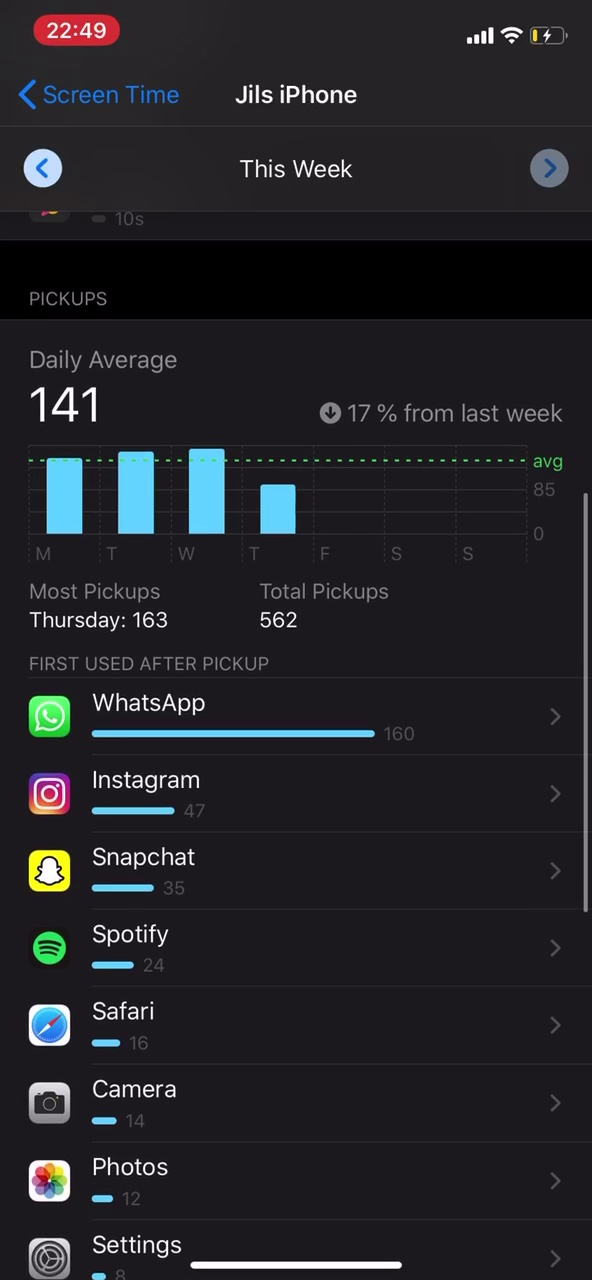pick_app: (14, 686, 429, 753), (18, 764, 304, 830), (17, 846, 228, 910), (18, 918, 223, 983), (17, 1153, 212, 1217), (17, 1075, 209, 1139), (15, 997, 206, 1058)
pick_over: (18, 577, 429, 649)
week: (235, 153, 366, 180)
